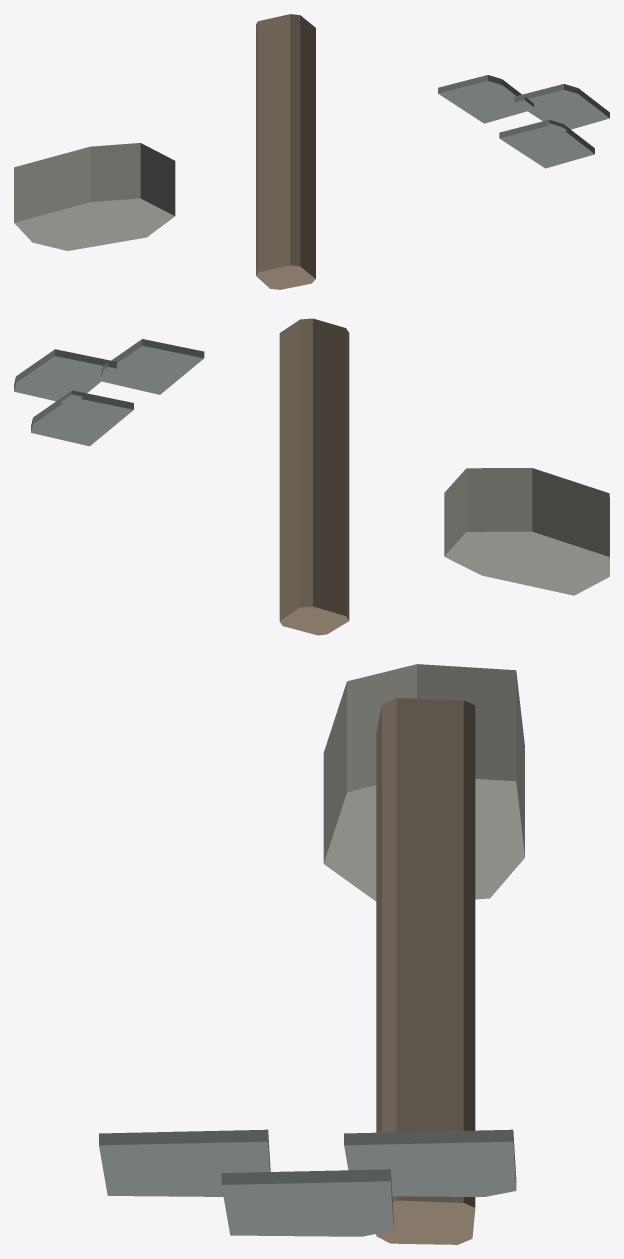
The model's file is hollowmere_phase_b_surface_modules_reference.glb.
The picture shows the model from 3 angles, top to bottom: view 1: azimuth 30°, elevation 25°; view 2: azimuth 150°, elevation 25°; view 3: azimuth 270°, elevation 25°; orthographic projection. The views are drawn at different scales.
Visible parts, largest first — view 1: TIMBER_01, STONE_01, SLATE_02, SLATE_01, SLATE_00; view 2: TIMBER_01, STONE_01, SLATE_00, SLATE_01, SLATE_02; view 3: TIMBER_01, STONE_01, SLATE_01, SLATE_00, SLATE_02.
Boxes of the visible parts, x1,y1,x2,y2 form: TIMBER_01: [256, 14, 315, 289]; STONE_01: [14, 143, 175, 250]; SLATE_02: [499, 119, 594, 168]; SLATE_01: [514, 84, 609, 132]; SLATE_00: [438, 75, 533, 123]; TIMBER_01: [279, 318, 349, 635]; STONE_01: [444, 468, 609, 595]; SLATE_00: [31, 390, 133, 446]; SLATE_01: [14, 349, 116, 405]; SLATE_02: [101, 339, 204, 394]; TIMBER_01: [376, 698, 475, 1244]; STONE_01: [323, 664, 524, 901]; SLATE_01: [221, 1169, 393, 1236]; SLATE_00: [344, 1129, 516, 1196]; SLATE_02: [99, 1129, 270, 1196].
Size of the model in its own units: 4.21 by 1.9 by 1.46.
